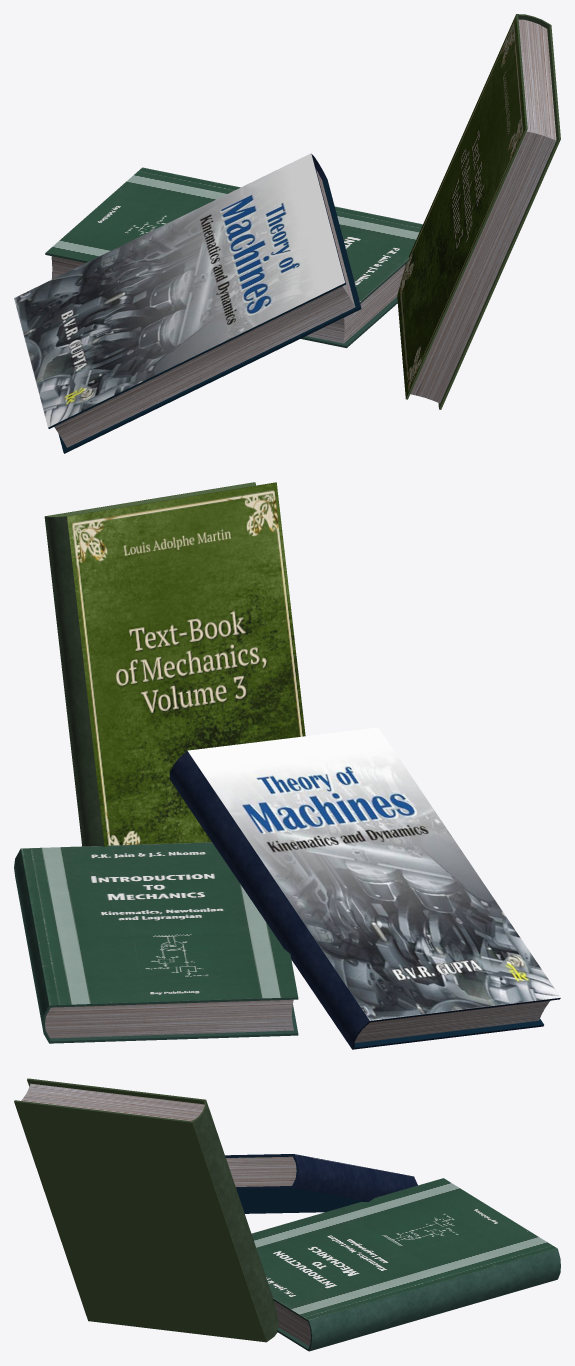
Rendered from 012. Ciencias de la Ingeniería (CE).fbx.
3 renders of one model, top to bottom at view 1: azimuth 30°, elevation 25°; view 2: azimuth 150°, elevation 25°; view 3: azimuth 270°, elevation 25°, orthographic. The views are drawn at different scales.
Parts seen in each view (by area): view 1: pCube1.001, pCube1.002, pCube1; view 2: pCube1.001, pCube1.002, pCube1; view 3: pCube1.002, pCube1, pCube1.001.
Part boxes in pixels (x1=…): pCube1.001: x1=14, y1=153, x2=361, y2=453; pCube1.002: x1=397, y1=14, x2=560, y2=409; pCube1: x1=45, y1=167, x2=422, y2=348; pCube1.001: x1=169, y1=727, x2=560, y2=1049; pCube1.002: x1=44, y1=482, x2=305, y2=846; pCube1: x1=14, y1=842, x2=298, y2=1043; pCube1.002: x1=14, y1=1078, x2=278, y2=1342; pCube1: x1=251, y1=1178, x2=560, y2=1351; pCube1.001: x1=225, y1=1154, x2=417, y2=1213.
Bounding box in the file's own units: 342 × 231 × 371.
4 materials, 3 textured.
